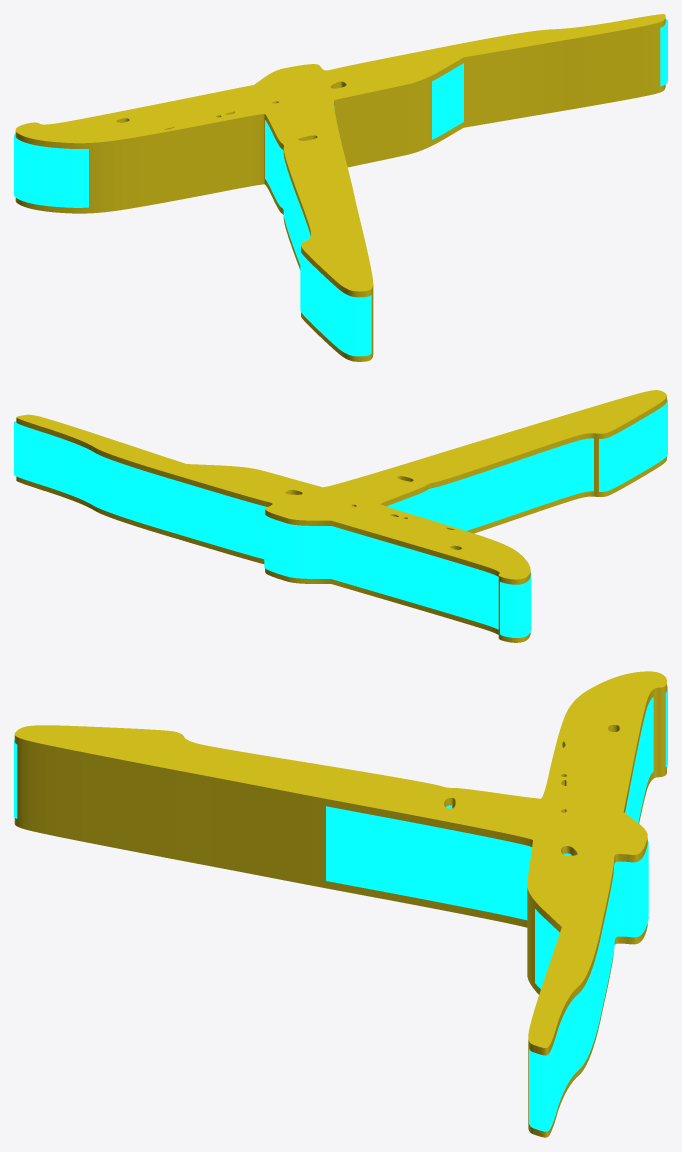
Rendered from LetterT.glb.
The picture shows the model from 3 angles, top to bottom: view 1: azimuth 30°, elevation 25°; view 2: azimuth 150°, elevation 25°; view 3: azimuth 270°, elevation 25°; orthographic projection. The views are drawn at different scales.
Parts seen in each view (by area): view 1: Text, Text.001; view 2: Text.001, Text; view 3: Text, Text.001.
Part boxes in pixels (box(x1,y1,x2,y2)): Text: box(15, 14, 665, 361); Text.001: box(14, 19, 667, 356); Text.001: box(14, 399, 667, 637); Text: box(16, 390, 666, 642); Text: box(14, 671, 666, 1137); Text.001: box(14, 685, 667, 1131).
Bounding box in the file's own units: 0.7904 × 0.087 × 0.5763.
